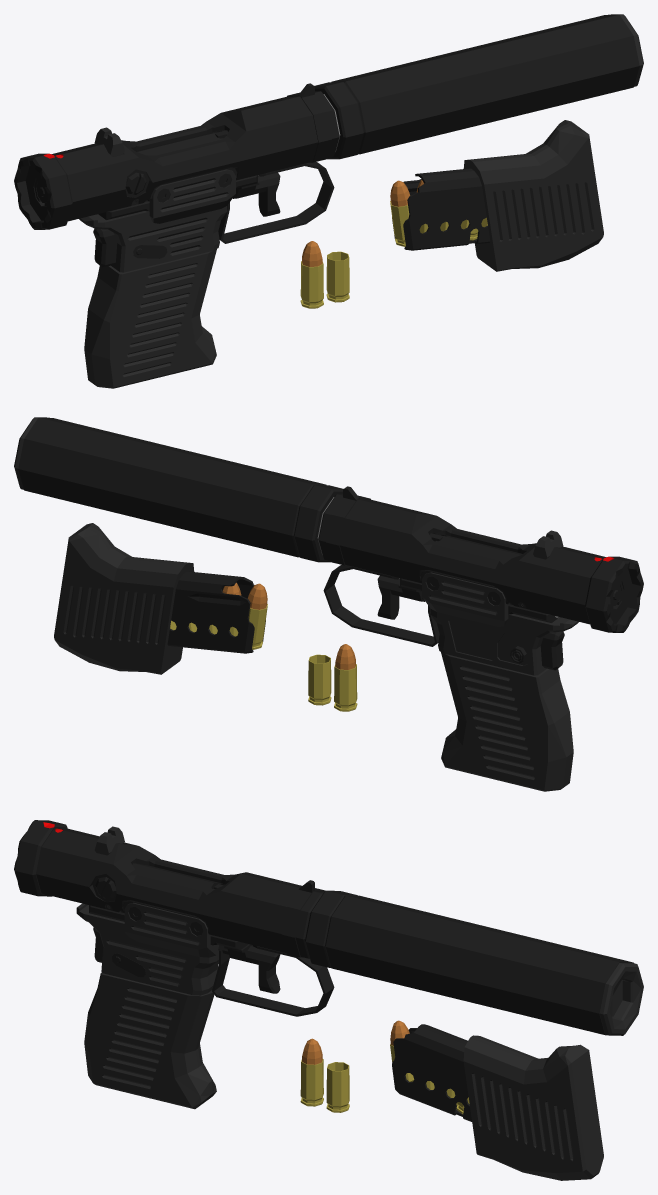
3 views of the same model, one above another, from view 1: azimuth 30°, elevation 25°; view 2: azimuth 150°, elevation 25°; view 3: azimuth 330°, elevation 25° (orthographic).
Parts seen in each view (by area): view 1: vp9 frame _5, vp9 silencer_6, vp9 5rnd mag_2, vp9 5rnd mag empty_3, vp9 bolt_4, vp9 trigga_7, 919 case_1, Object_4; view 2: vp9 frame _5, vp9 silencer_6, vp9 5rnd mag_2, vp9 5rnd mag empty_3, vp9 bolt_4, vp9 trigga_7, 919 case_1, Object_4; view 3: vp9 frame _5, vp9 silencer_6, vp9 5rnd mag_2, vp9 5rnd mag empty_3, vp9 bolt_4, vp9 trigga_7, 919 case_1, Object_4.
Boxes of the visible parts, x1,y1,x2,y2 form: vp9 frame _5: [51, 83, 339, 272]; vp9 silencer_6: [314, 14, 643, 159]; vp9 5rnd mag_2: [390, 120, 603, 271]; vp9 5rnd mag empty_3: [84, 249, 216, 388]; vp9 bolt_4: [14, 130, 228, 229]; vp9 trigga_7: [98, 172, 280, 219]; 919 case_1: [326, 251, 349, 302]; Object_4: [300, 261, 323, 308]; vp9 frame _5: [318, 486, 606, 675]; vp9 silencer_6: [14, 417, 343, 562]; vp9 5rnd mag_2: [54, 523, 267, 674]; vp9 5rnd mag empty_3: [441, 652, 573, 791]; vp9 bolt_4: [429, 533, 643, 632]; vp9 trigga_7: [377, 575, 559, 622]; 919 case_1: [308, 654, 331, 705]; Object_4: [334, 664, 357, 711]; vp9 frame _5: [36, 826, 334, 1016]; vp9 silencer_6: [305, 890, 643, 1035]; vp9 5rnd mag_2: [390, 1020, 603, 1180]; vp9 5rnd mag empty_3: [84, 972, 216, 1109]; vp9 bolt_4: [14, 820, 224, 896]; vp9 trigga_7: [89, 905, 280, 993]; 919 case_1: [326, 1062, 349, 1112]; Object_4: [300, 1059, 323, 1106].
Bounding box in the file's own units: 2.84 × 1.14 × 0.3352.
